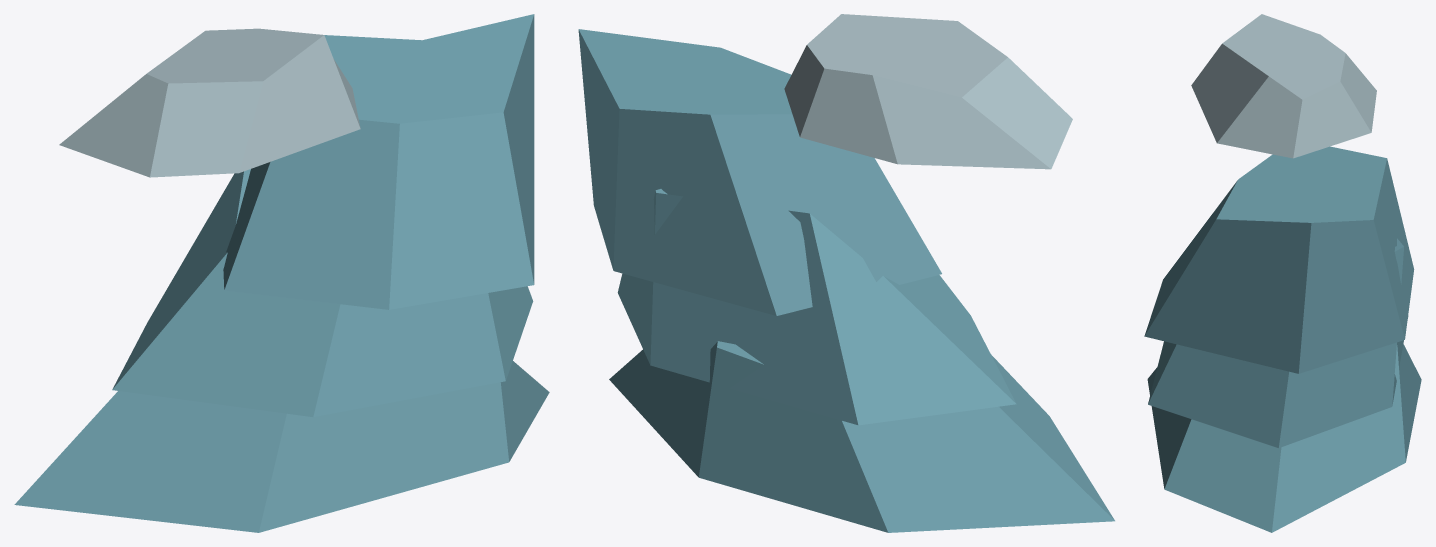
File: map-boundaries-v5__frost_12.glb
3 views of the same model, side by side, from view 1: azimuth 30°, elevation 25°; view 2: azimuth 150°, elevation 25°; view 3: azimuth 270°, elevation 25° (orthographic). The views are drawn at different scales.
Parts seen in each view (by area): view 1: frost_12; view 2: frost_12; view 3: frost_12.
Part boxes in pixels (x1,y1,x2,y2): frost_12: (14, 14, 549, 532); frost_12: (578, 14, 1114, 532); frost_12: (1144, 14, 1421, 532).
Bounding box in the file's own units: 1.32 × 0.9982 × 0.6964.
